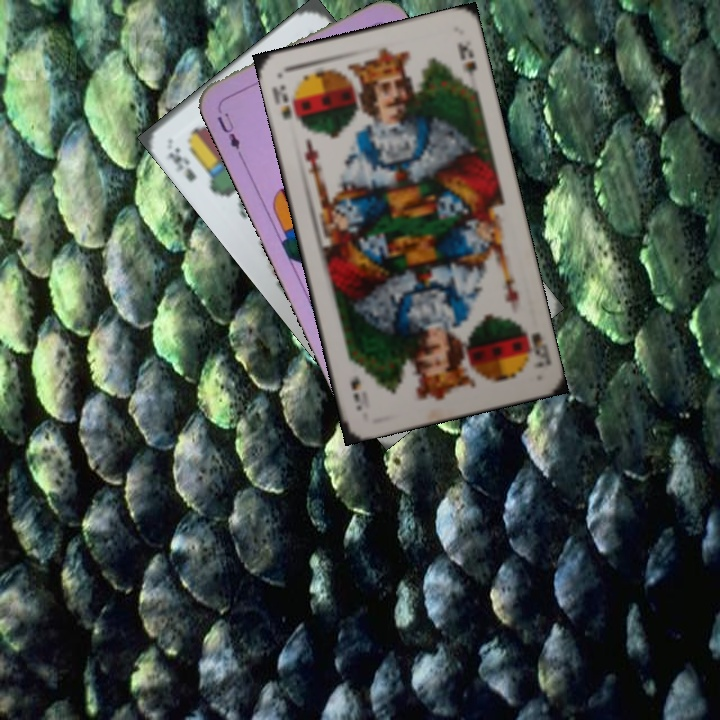EK: (163, 143, 199, 185)
EU: (212, 101, 244, 158)
SK: (268, 80, 294, 123), (527, 328, 553, 371)
